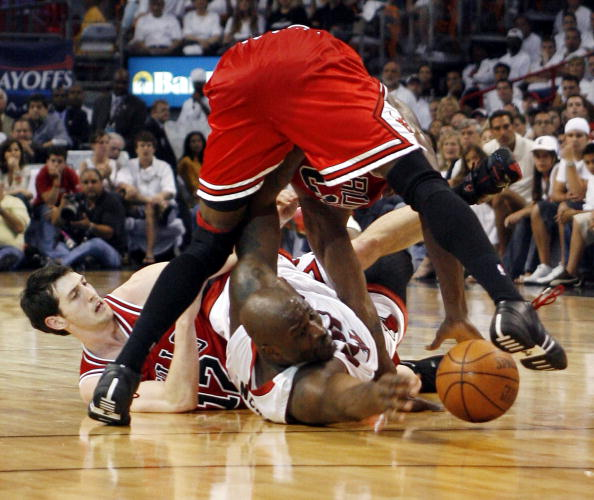10+: (1, 1, 592, 432)
down: (21, 242, 220, 413), (224, 282, 374, 407)
